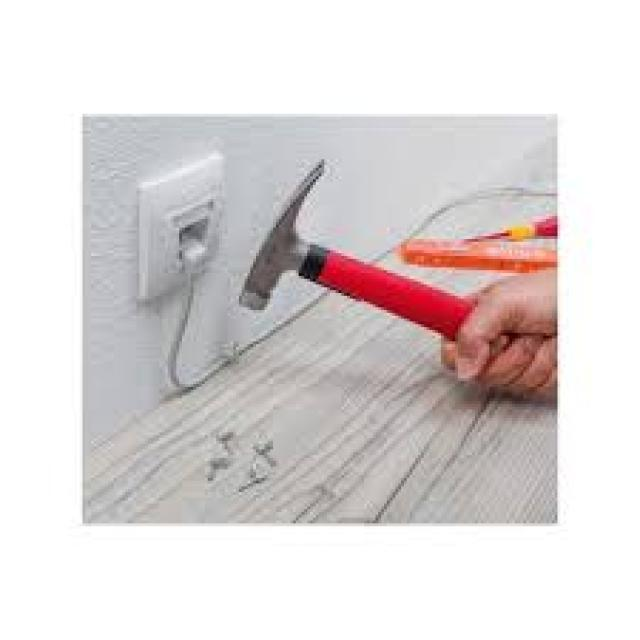Palu: (219, 168, 456, 366)
